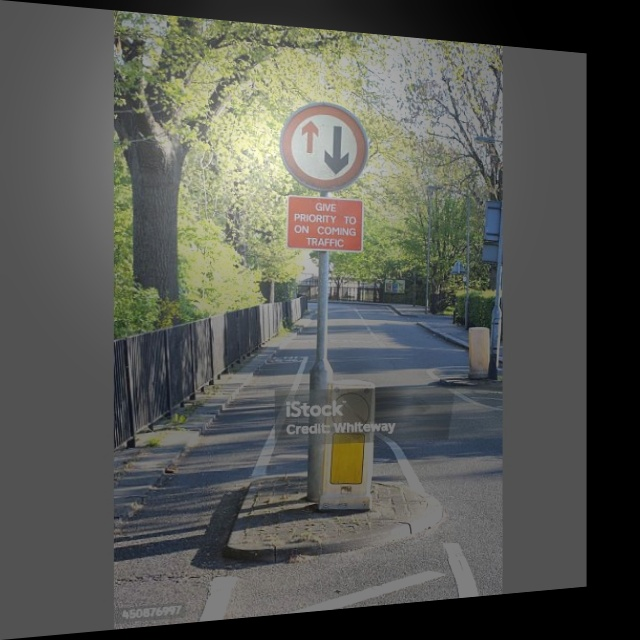Priority_for_Oncoming_Traffic: (283, 102, 368, 192)
